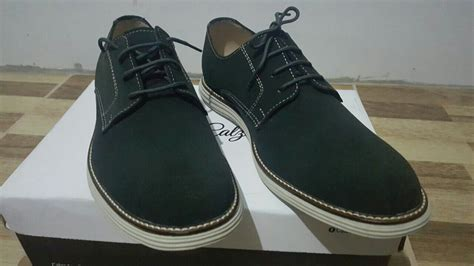gamuza: (93, 17, 424, 225)
